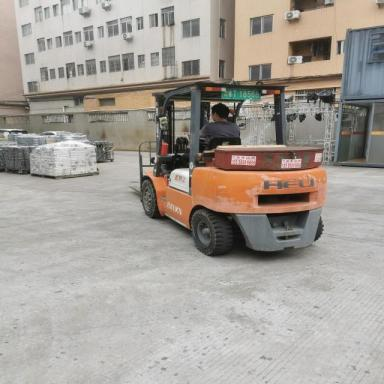forklift: (128, 79, 334, 262)
